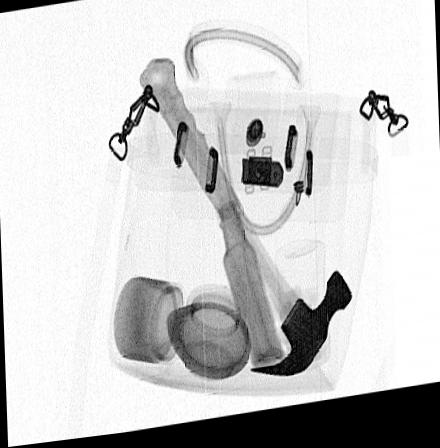Hammer: (137, 60, 354, 383)
